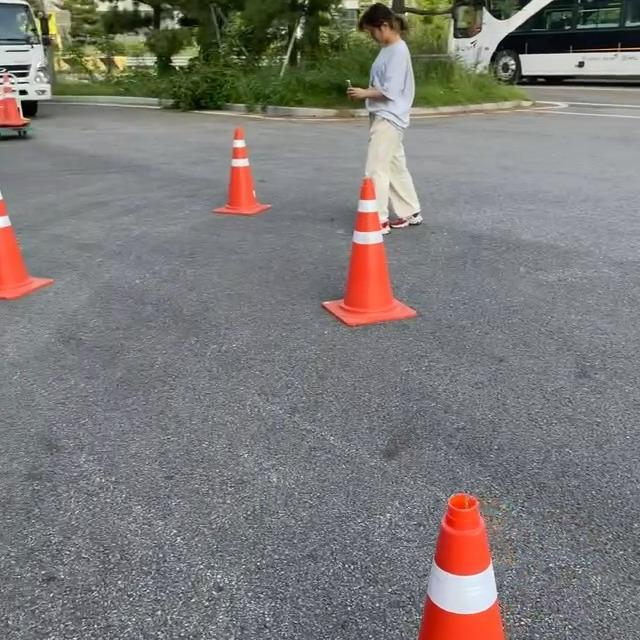fallen_object: (352, 429, 563, 640), (5, 169, 112, 332), (175, 113, 282, 256), (322, 182, 419, 330)
